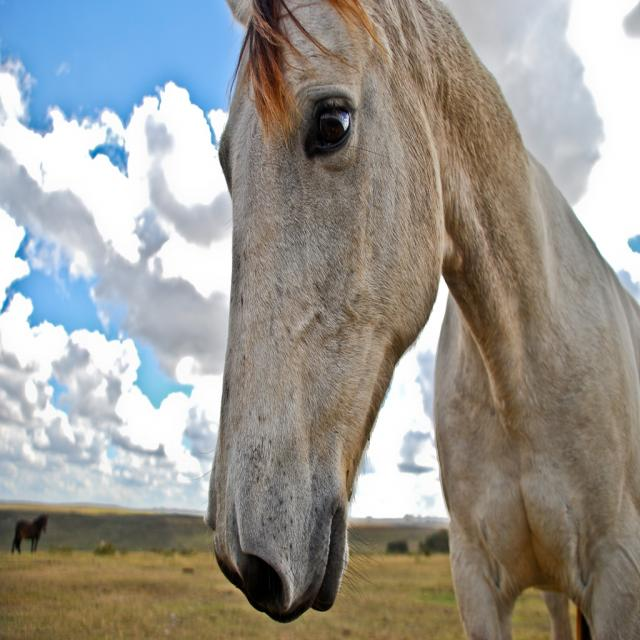Horse: (204, 0, 639, 639), (13, 514, 47, 552)
